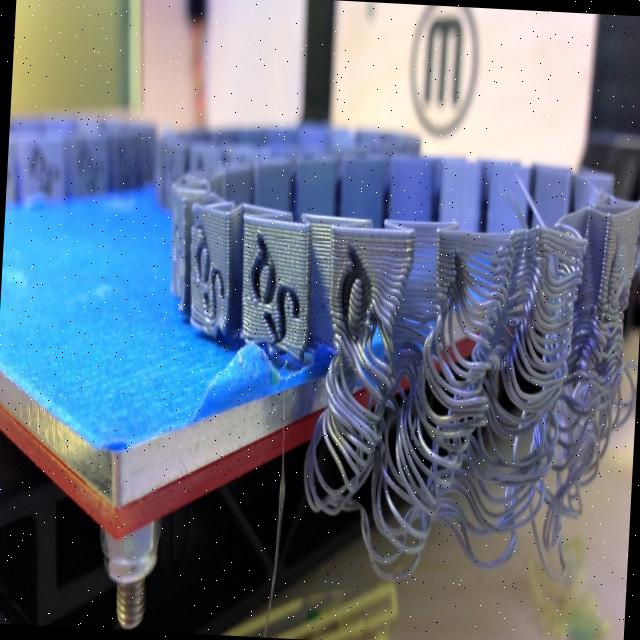spaghetti: (280, 229, 640, 580)
